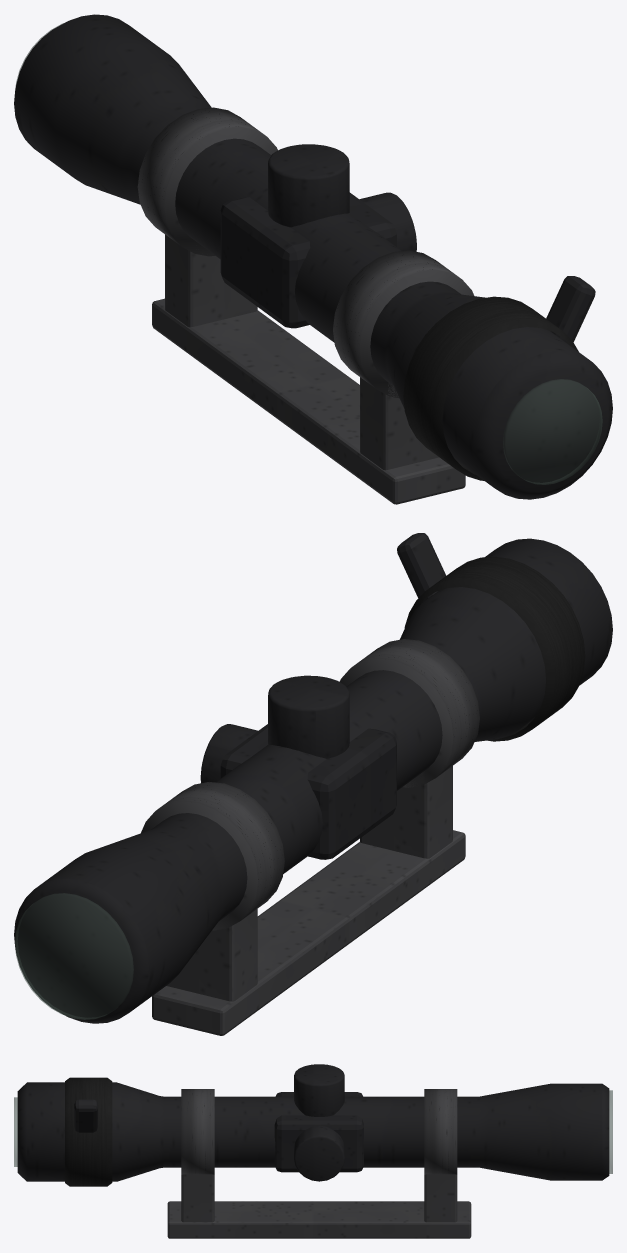
File: scope_lpvo.glb
3 renders of one model, top to bottom at view 1: azimuth 30°, elevation 25°; view 2: azimuth 150°, elevation 25°; view 3: azimuth 270°, elevation 25°, orthographic. The views are drawn at different scales.
Parts seen in each view (by area): view 1: tube, base, zoom_ring, saddle, lens_r, ring1, ring0, turret_t, riser1, riser0, throw, turret_s; view 2: tube, base, lens_f, zoom_ring, saddle, ring1, ring0, turret_t, riser0, riser1, throw, turret_s; view 3: tube, base, zoom_ring, saddle, ring0, ring1, turret_t, turret_s, riser1, riser0, throw, lens_f (+1 smaller).
Part boxes in pixels (<box>): tube: <box>14,14,612,499</box>; base: <box>152,298,465,504</box>; zoom_ring: <box>403,296,578,480</box>; saddle: <box>220,192,396,328</box>; lens_r: <box>503,379,602,484</box>; ring1: <box>137,107,277,256</box>; ring0: <box>333,250,474,398</box>; turret_t: <box>268,144,349,227</box>; riser1: <box>165,234,257,327</box>; riser0: <box>360,377,438,470</box>; throw: <box>546,276,595,345</box>; turret_s: <box>359,192,416,251</box>; tube: <box>14,538,612,1023</box>; base: <box>152,830,465,1035</box>; lens_f: <box>15,893,133,1019</box>; zoom_ring: <box>404,556,585,741</box>; saddle: <box>220,724,396,859</box>; ring1: <box>141,782,284,930</box>; ring0: <box>339,639,479,787</box>; turret_t: <box>268,675,349,758</box>; riser0: <box>360,766,452,858</box>; riser1: <box>166,909,257,1001</box>; throw: <box>397,533,446,603</box>; turret_s: <box>200,724,257,783</box>; tube: <box>17,1082,609,1181</box>; base: <box>167,1201,471,1238</box>; zoom_ring: <box>65,1077,112,1186</box>; saddle: <box>274,1092,363,1172</box>; ring0: <box>181,1089,214,1174</box>; ring1: <box>424,1089,457,1174</box>; turret_t: <box>294,1064,344,1116</box>; turret_s: <box>294,1125,344,1181</box>; riser1: <box>424,1174,457,1222</box>; riser0: <box>181,1174,214,1222</box>; throw: <box>74,1099,97,1132</box>; lens_f: <box>609,1090,612,1173</box>.
Size of the model in its own units: 0.0511 by 0.072 by 0.253.
Materials: 4 (3 with a texture image).
